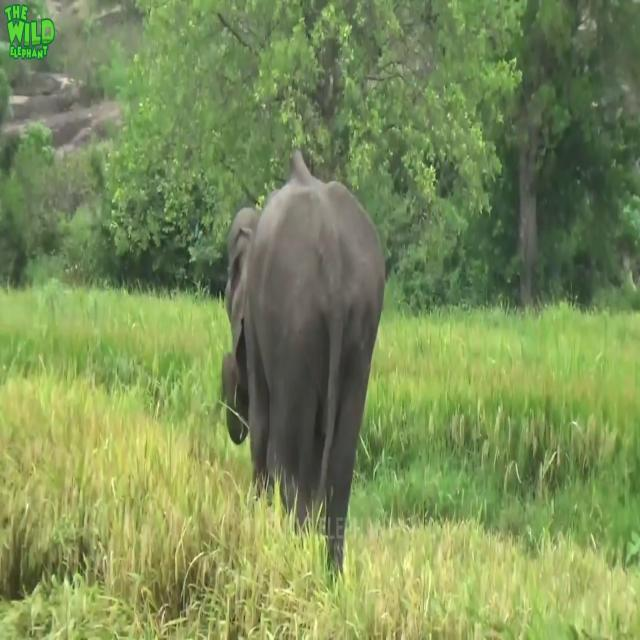Elephant: (221, 148, 386, 580)
